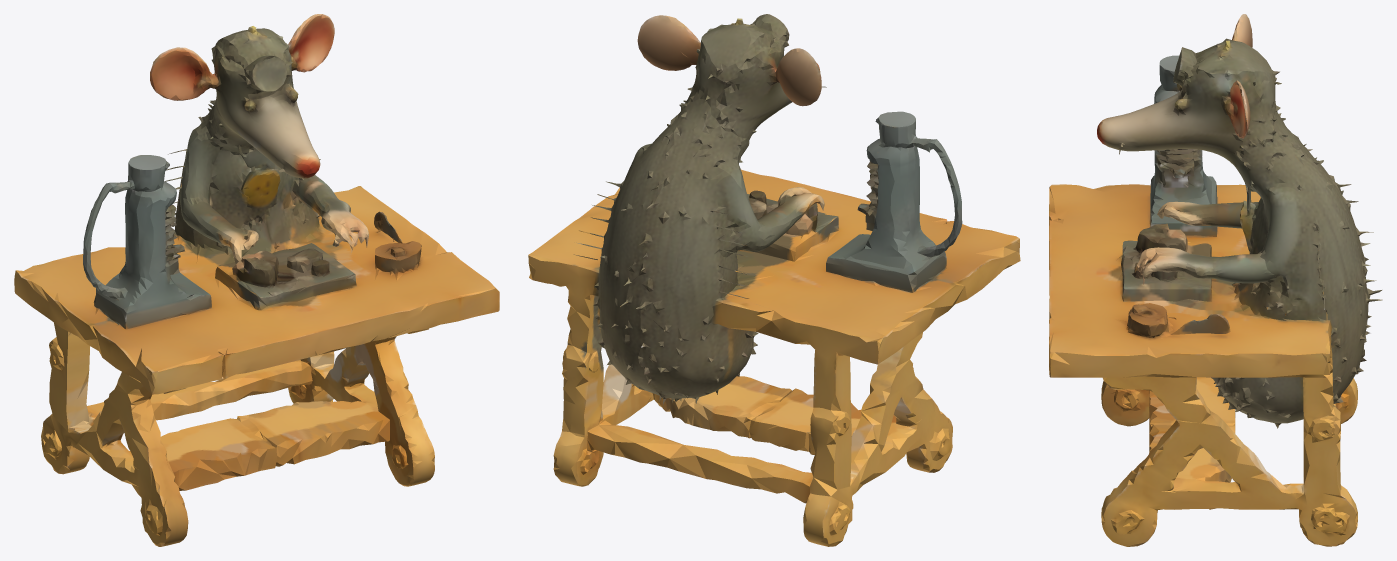
3 renders of one model, left to right at view 1: azimuth 30°, elevation 25°; view 2: azimuth 150°, elevation 25°; view 3: azimuth 270°, elevation 25°, orthographic.
Parts seen in each view (by area): view 1: 011; view 2: 011; view 3: 011.
Part boxes in pixels (x1,y1,x2,y2): 011: (14, 14, 499, 546); 011: (528, 14, 1020, 546); 011: (1049, 14, 1382, 546).
Bounding box in the file's own units: 1.57 × 1.9 × 1.28.
1 material, 1 textured.
